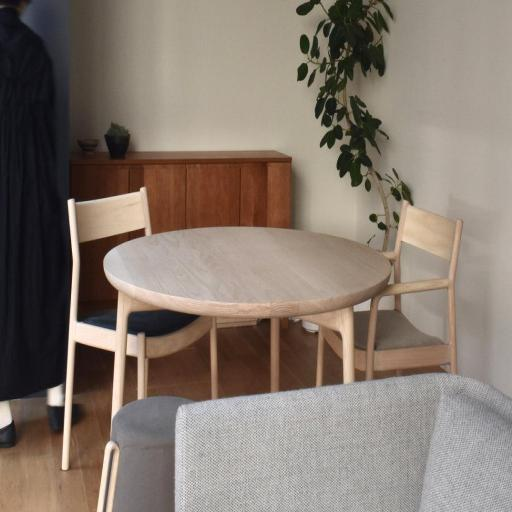table: (101, 224, 391, 462)
